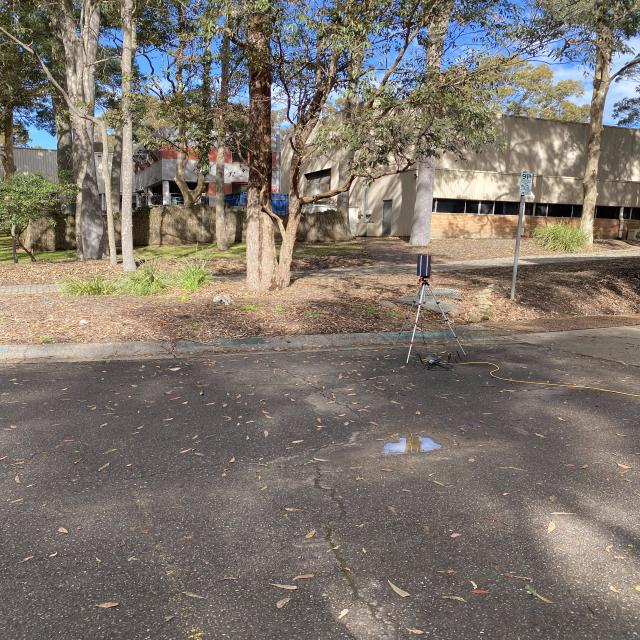matrix: (415, 254, 432, 276)
